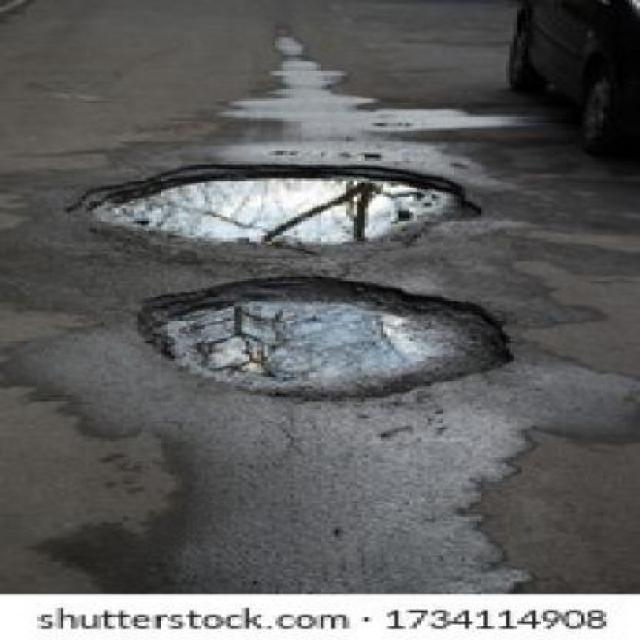pothole: (130, 274, 521, 400), (59, 158, 484, 257)
